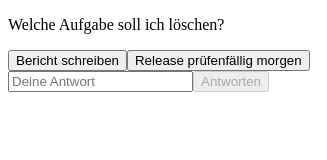
Test case: structured clarification card › answers with a concrete option and resumes the original request
This screenshot has width=327, height=160.
Expected: the element "Welche Aufgabe soll ich löschen?" is shown, [8,16,310,92]
Step 1. Click the button "Release prüfen" → click(218, 60), box [127,50,310,71]
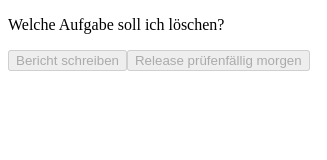
Result: the button "Bericht schreiben" is disabled at [8,50,127,71]
